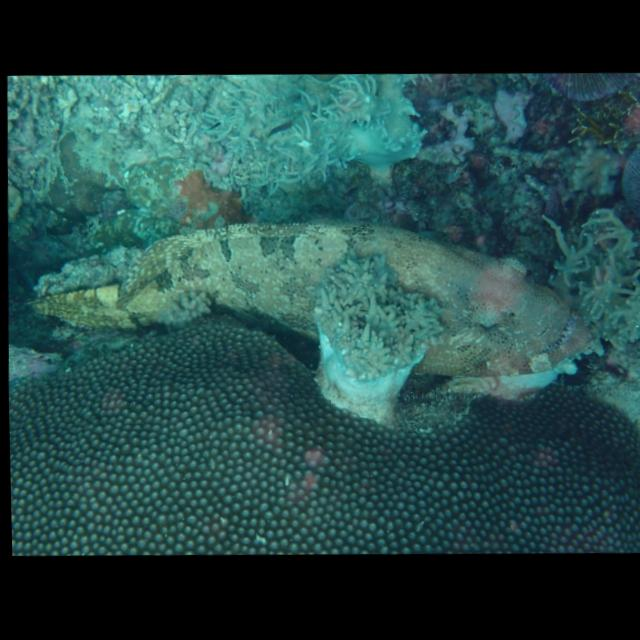Groupers: (22, 206, 590, 388)
